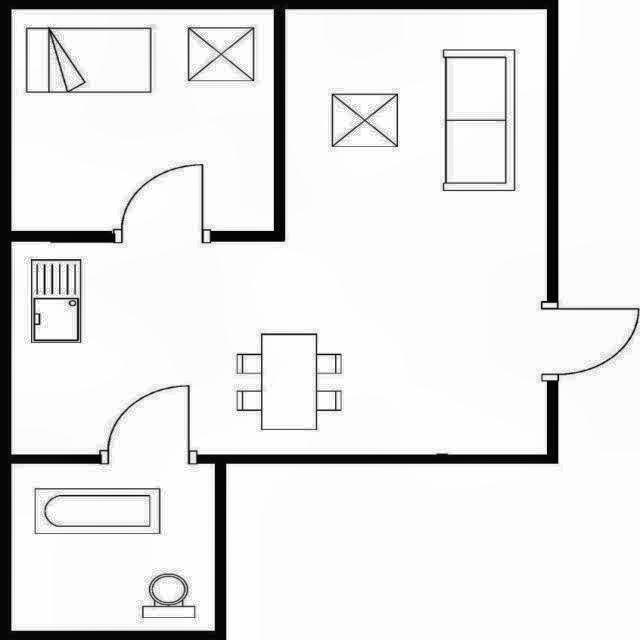room: (11, 9, 547, 455), (11, 9, 274, 231), (11, 464, 215, 631)
